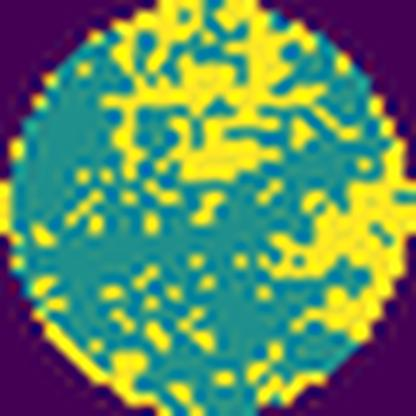Edge-Loc: (95, 0, 367, 186), (251, 87, 415, 350), (29, 294, 176, 416), (253, 363, 331, 410)
